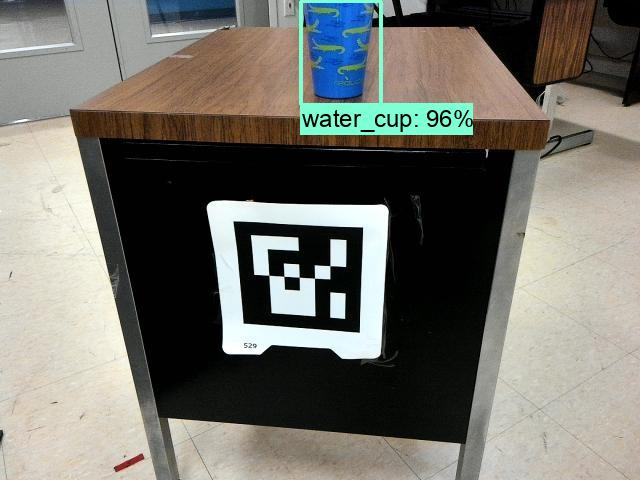water_cup: (298, 1, 379, 108)
